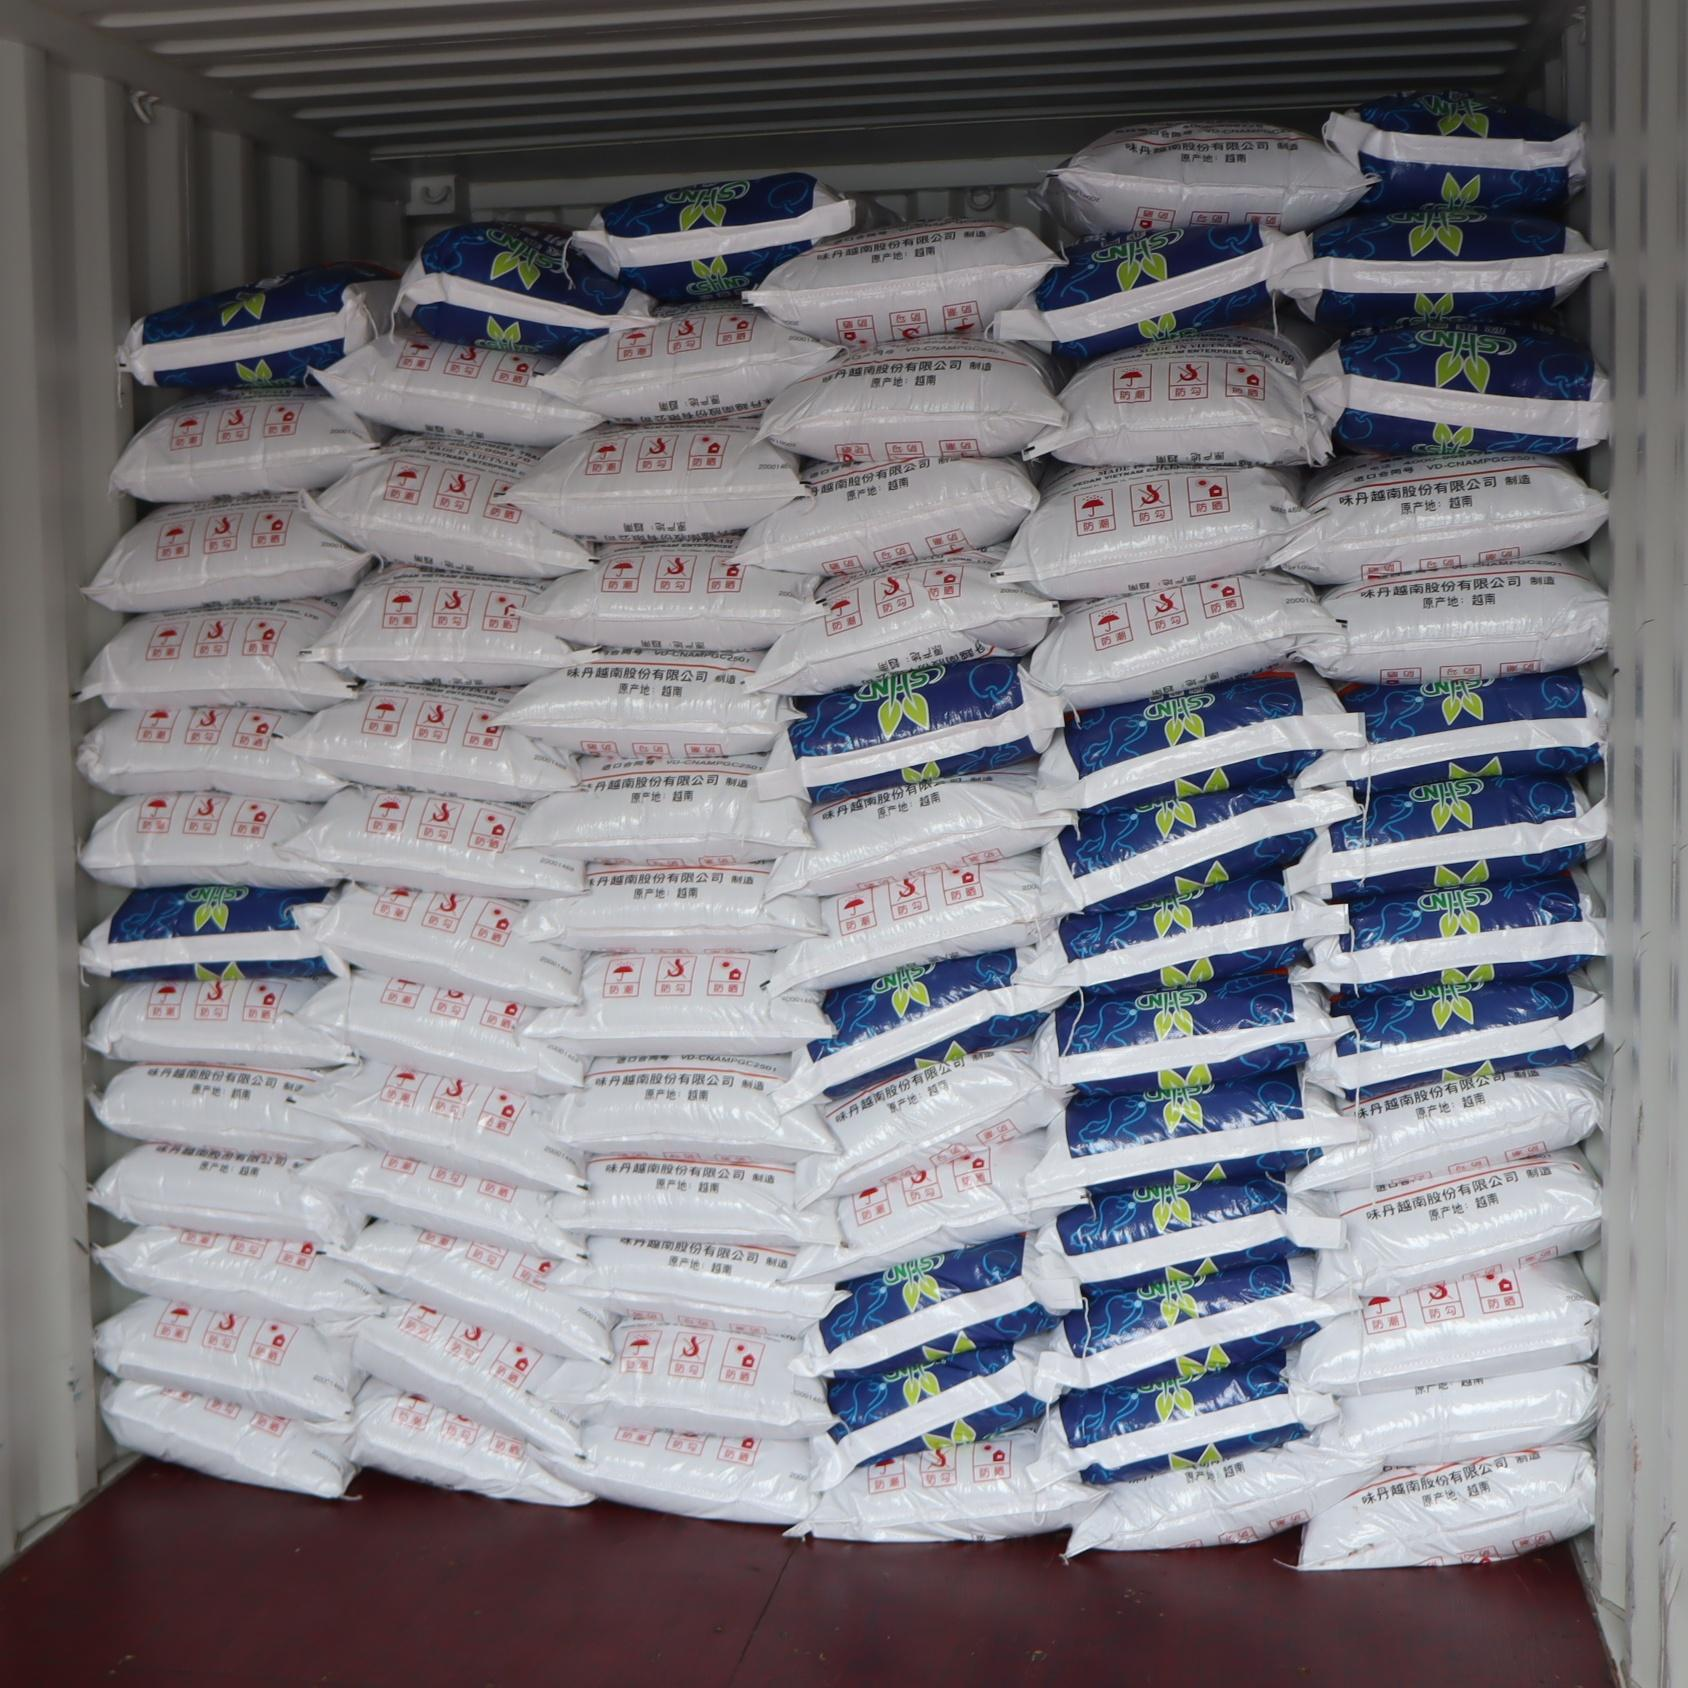sack: (1037, 668, 1363, 810), (751, 552, 1057, 696), (781, 951, 1067, 1104), (756, 659, 1064, 801), (798, 1046, 1067, 1207), (1028, 1068, 1360, 1198), (1029, 570, 1342, 708), (1034, 1258, 1337, 1399), (1005, 465, 1325, 598), (1291, 1257, 1598, 1394), (793, 1130, 1071, 1281), (1291, 451, 1608, 584), (1023, 328, 1329, 465), (1305, 317, 1608, 454), (1312, 1152, 1601, 1295), (992, 226, 1309, 356), (795, 1234, 1081, 1377), (306, 434, 590, 578), (1278, 206, 1608, 329), (1031, 1354, 1336, 1487), (318, 1303, 580, 1456), (1289, 870, 1608, 995), (1291, 1064, 1600, 1192), (745, 220, 1060, 345), (1289, 774, 1608, 898), (1305, 553, 1606, 683), (771, 853, 1059, 989), (1294, 669, 1606, 795), (759, 335, 1064, 464), (335, 1221, 611, 1360), (1045, 785, 1356, 907), (770, 770, 1073, 895), (1034, 121, 1366, 233), (1300, 1444, 1594, 1571), (1020, 873, 1345, 988), (1036, 974, 1351, 1091), (536, 303, 842, 424), (575, 172, 856, 301), (1306, 977, 1605, 1099), (1068, 1441, 1382, 1557), (815, 1339, 1053, 1489), (1036, 1173, 1343, 1289), (788, 1431, 1104, 1544), (737, 458, 1039, 575), (308, 1062, 583, 1190), (510, 424, 808, 541), (83, 492, 371, 612), (119, 261, 396, 386), (281, 683, 577, 799), (536, 1322, 832, 1438), (295, 972, 583, 1091), (399, 220, 655, 352), (96, 1297, 362, 1424), (314, 329, 600, 447), (305, 886, 580, 1006), (495, 651, 798, 759), (280, 788, 583, 895), (529, 539, 818, 651), (298, 1147, 583, 1260), (515, 754, 812, 861), (1325, 90, 1583, 212), (306, 566, 570, 685), (349, 1377, 594, 1506), (530, 951, 832, 1054), (111, 388, 382, 502), (550, 1056, 839, 1162), (77, 600, 352, 710), (100, 1379, 356, 1496), (90, 1145, 366, 1247), (535, 1424, 812, 1526), (1320, 1363, 1595, 1465), (97, 1226, 379, 1323), (560, 1237, 832, 1334), (553, 1155, 842, 1244), (79, 886, 345, 982), (76, 706, 345, 801), (516, 867, 819, 951), (80, 791, 334, 889), (93, 1064, 357, 1156), (88, 980, 352, 1068)
